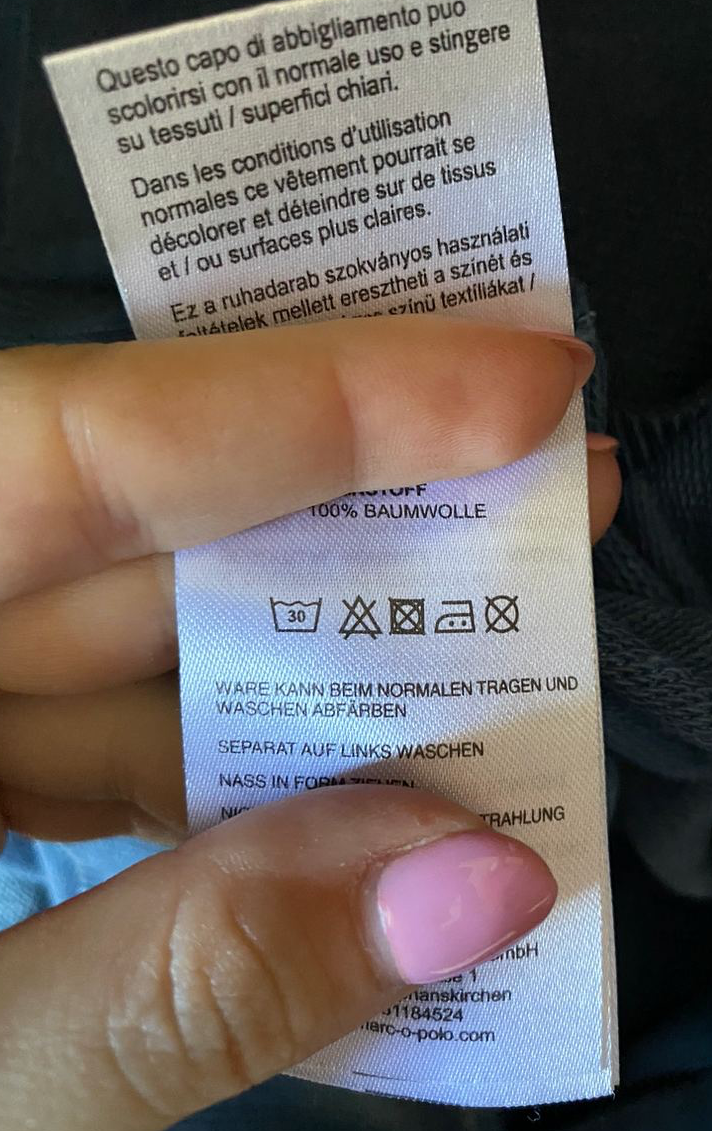do_not_bleach: (332, 591, 385, 643)
do_not_dry_clean: (481, 587, 526, 639)
do_not_tumble_drying: (386, 591, 430, 639)
ironing_at_med_temp: (434, 592, 476, 639)
wash_at_or_below_30: (265, 592, 330, 637)
